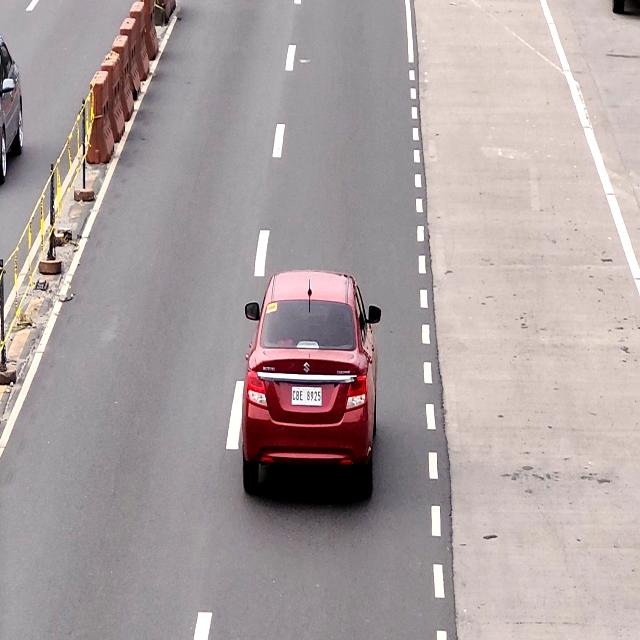Car: (244, 274, 376, 499)
License-Plate: (289, 386, 321, 407)
